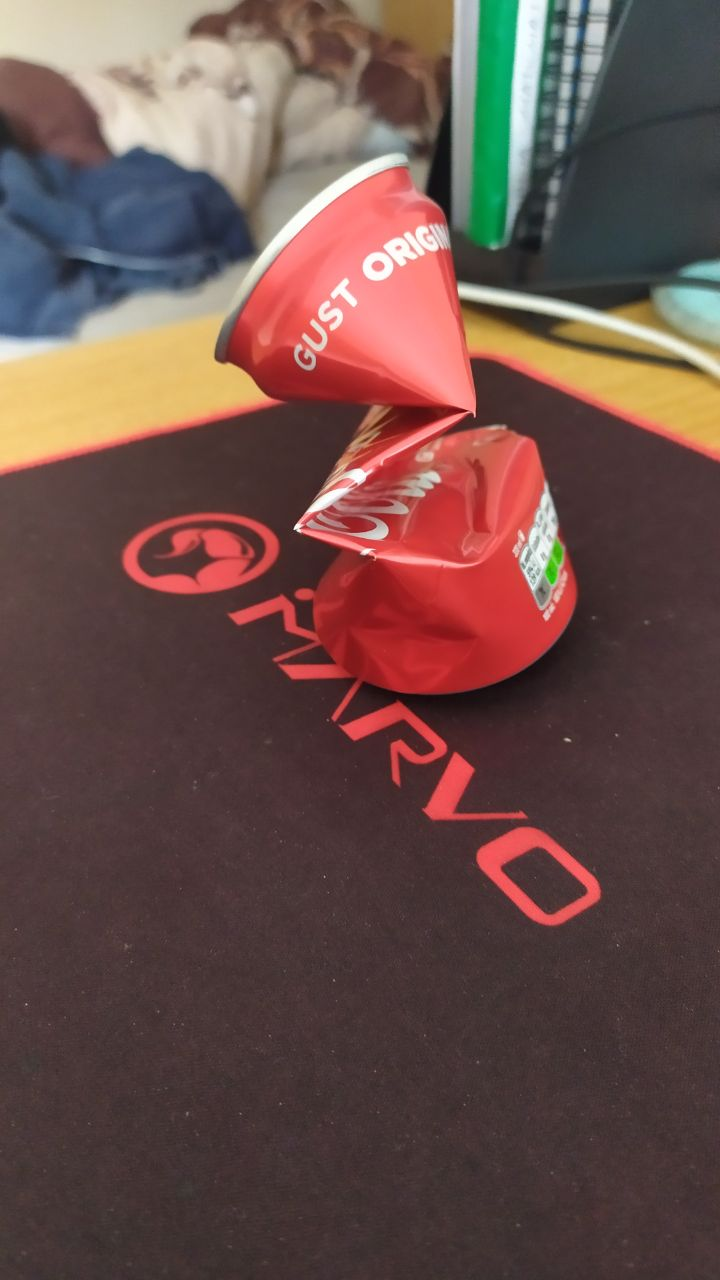Can: (215, 152, 587, 697)
